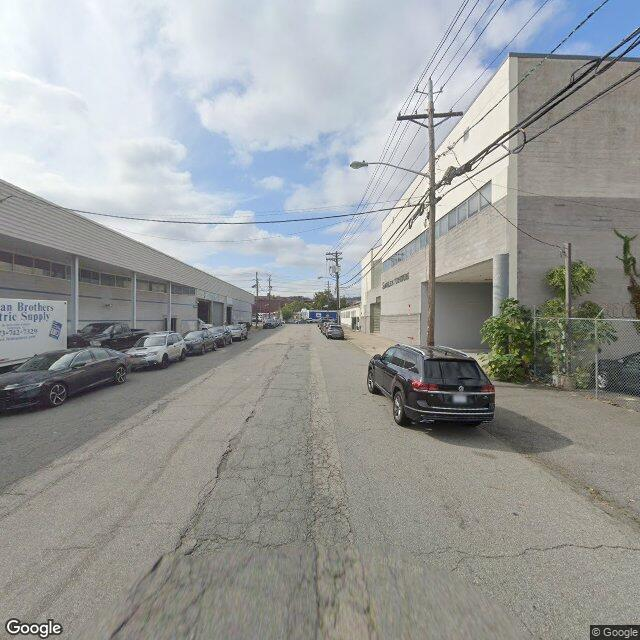pothole: (214, 433, 236, 477)
